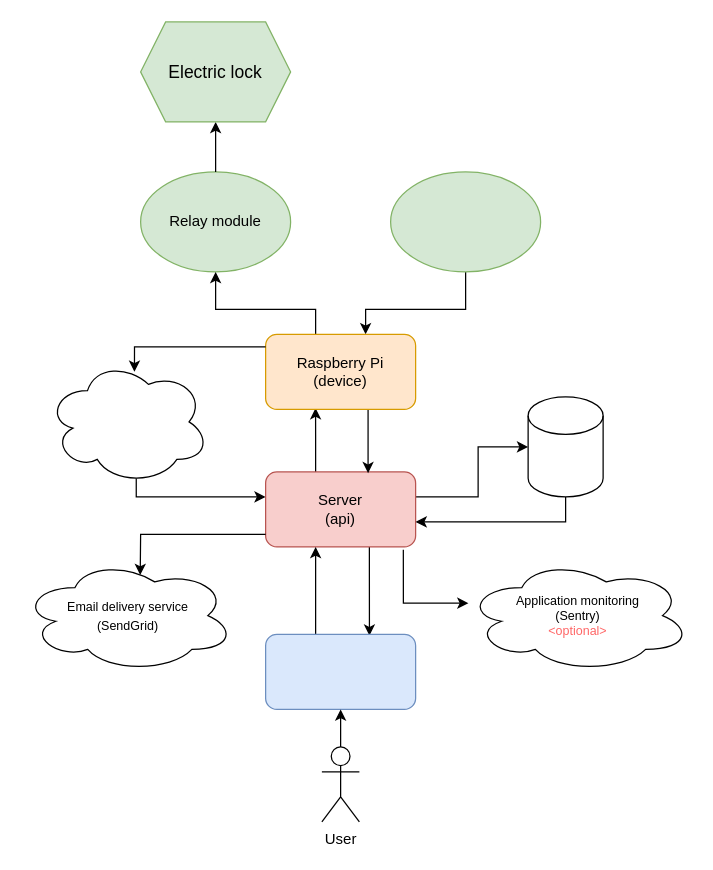
This 713x870 diagram has some shape labels left out. The shapes that lost their labels are listed below. From the top down, each one's centre as x and y in pixels, then its label:
At pixel 465 221: "Camera <optional>".
At pixel 127 421: "Camera Proxy (ngrok) <optional>".
At pixel 565 446: "DB (Postgres)".
At pixel 340 671: "Application (client)".
